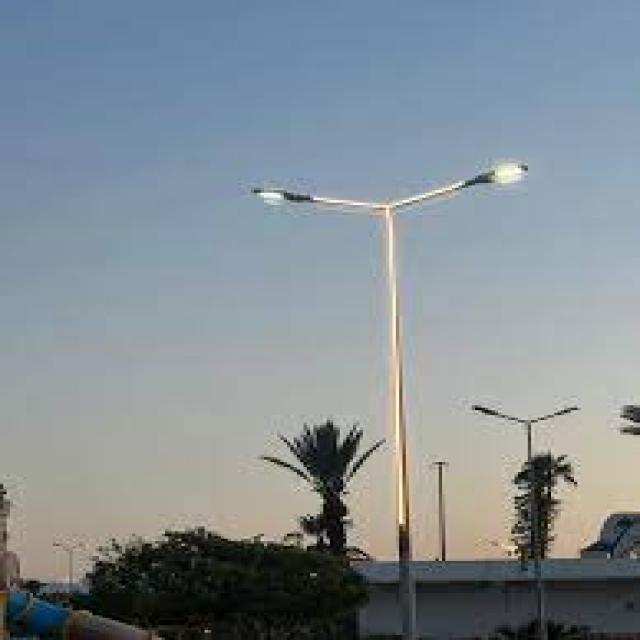Street Light: (247, 160, 531, 640), (468, 401, 578, 558), (49, 539, 86, 605)
